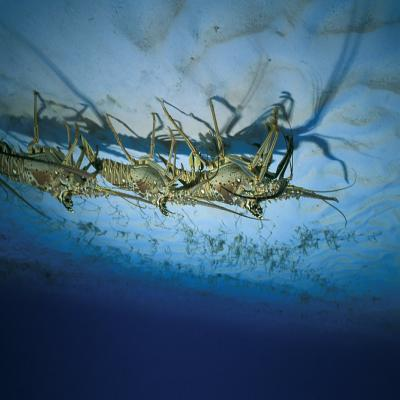lobster: (199, 103, 285, 221), (8, 103, 98, 213), (103, 113, 186, 214)
